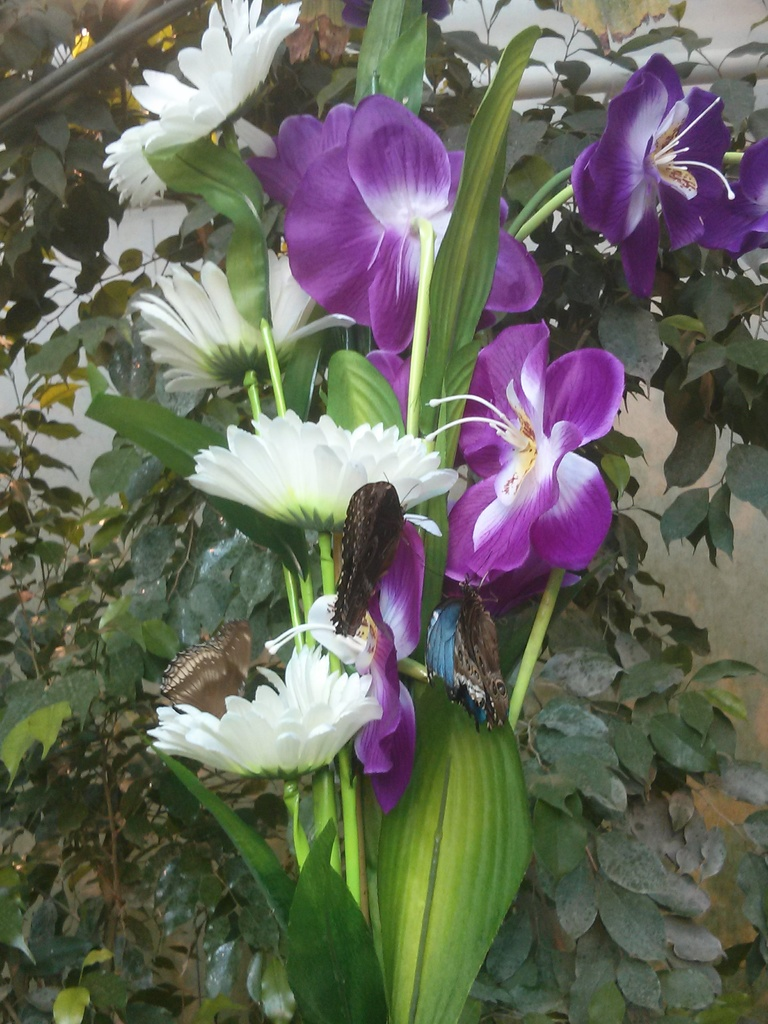Animal: (325, 474, 417, 634), (427, 568, 511, 737), (153, 617, 253, 722)
